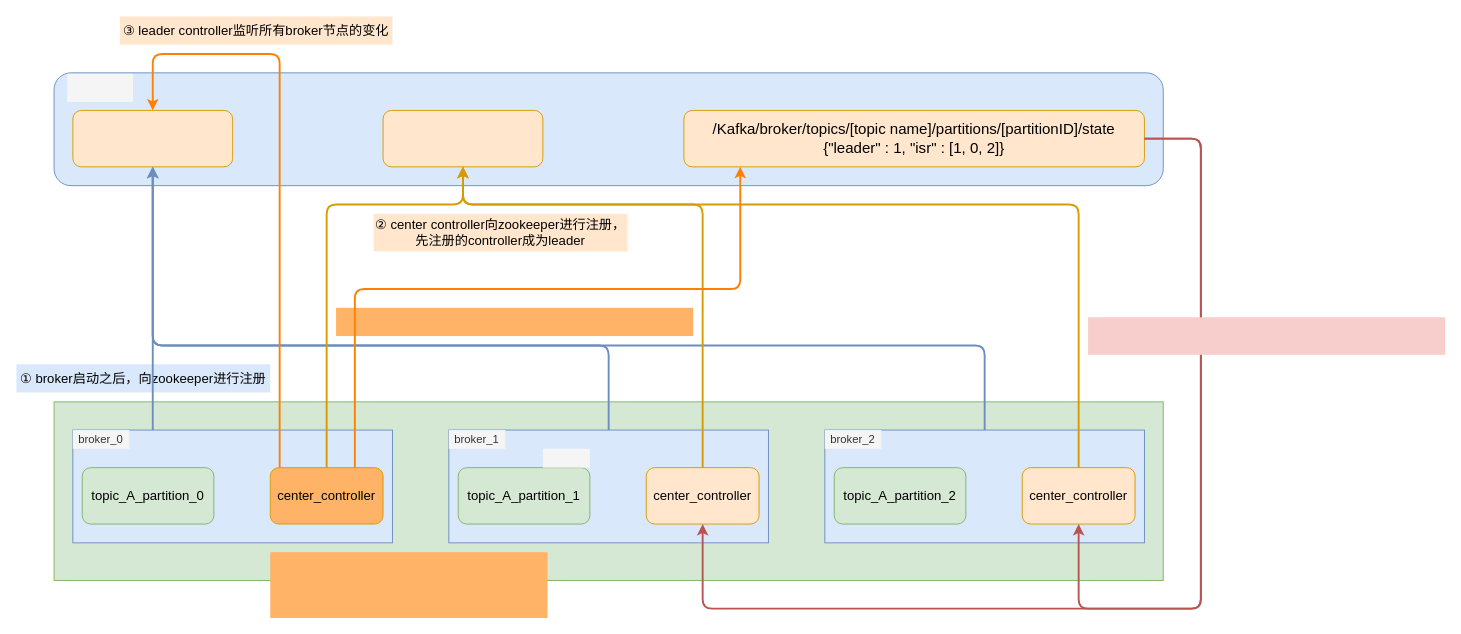
The diagram is 1461 pixels wide and 634 high, and some of its shapes have lost their labels. Each missing label, with the centre of its shape:
/Kafka/brokers/ids [0, 1, 2]: (x=152, y=138)
/Kafka/controller {"broker" : 1}: (x=462, y=138)
leader: (x=565, y=457)
zookeeper: (x=100, y=87)
④ center controller进行分区副本leader的选举 选举规则： 1、必须在ISR列表中（即必须是存活状态） 2、在AR列表中，顺序最靠前的副本: (x=408, y=585)
⑤ center controller在zookeeper中注册分区副本leader的信息: (x=514, y=321)
⑥ 其他controller从zookeeper中同步分区副本leader的信息，至此，broker首次启动完成: (x=1266, y=335)
